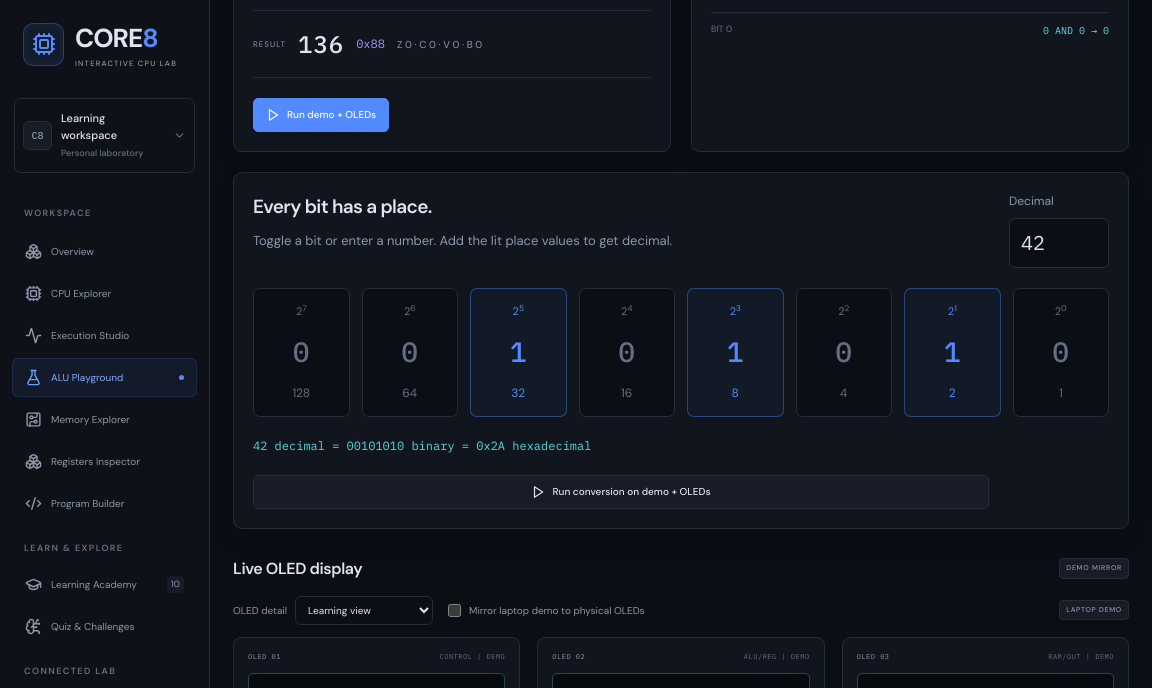
Test: dashboard route rendering and interactions › toggles a conversion bit and updates the actual number
(page scrolled)
Click the button named "Toggle bit 7, value 128" at (301, 352), box [253,288,350,416]
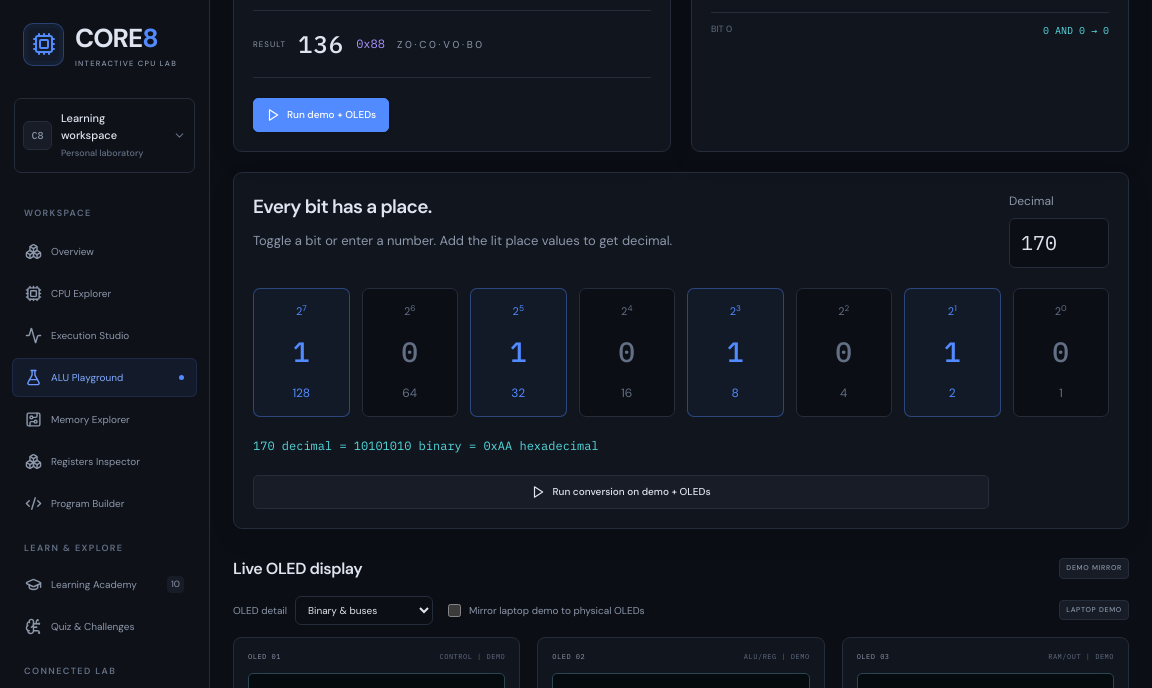
Check: the number field named "Decimal conversion" holds "170", box [1009,218,1109,268]
